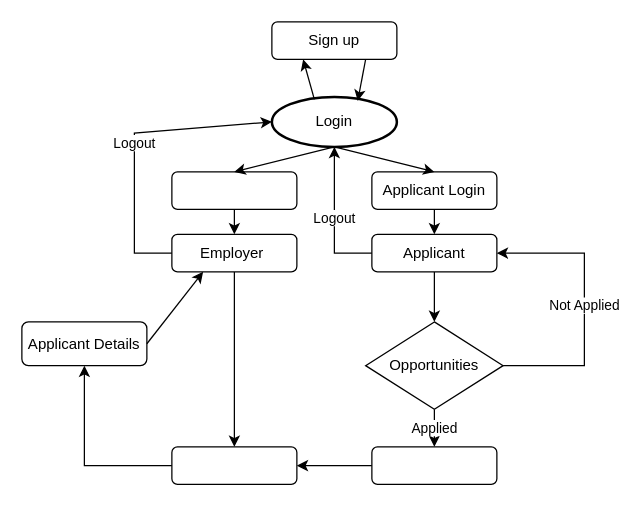
This 641x506 diagram has some shape labels left out. The shapes that lost their labels are listed below. From the top down, each one's box as (x1, y1, x2, y2) in pixels, then its label:
(171, 171, 297, 209): Employer Login
(171, 446, 297, 484): Job Postings
(371, 446, 497, 484): Applications
